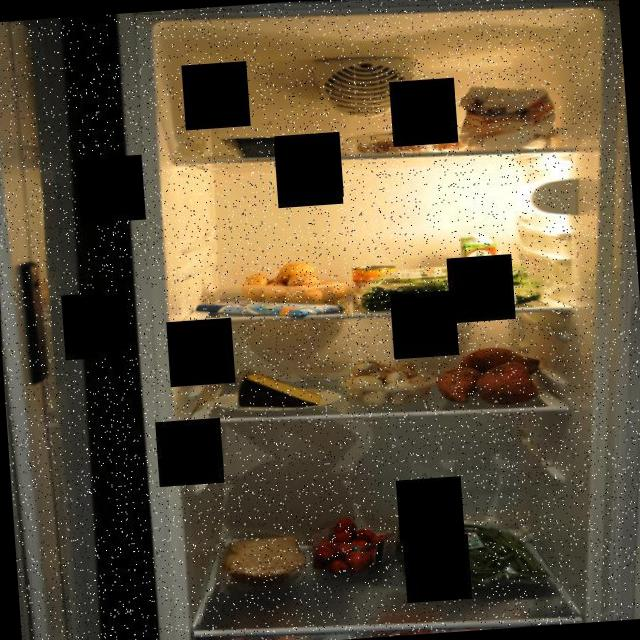Champiñones: (336, 353, 437, 412)
Gambas/Langostinos: (354, 130, 470, 158)
Patata: (234, 254, 356, 310)
Queso: (232, 366, 324, 412)
